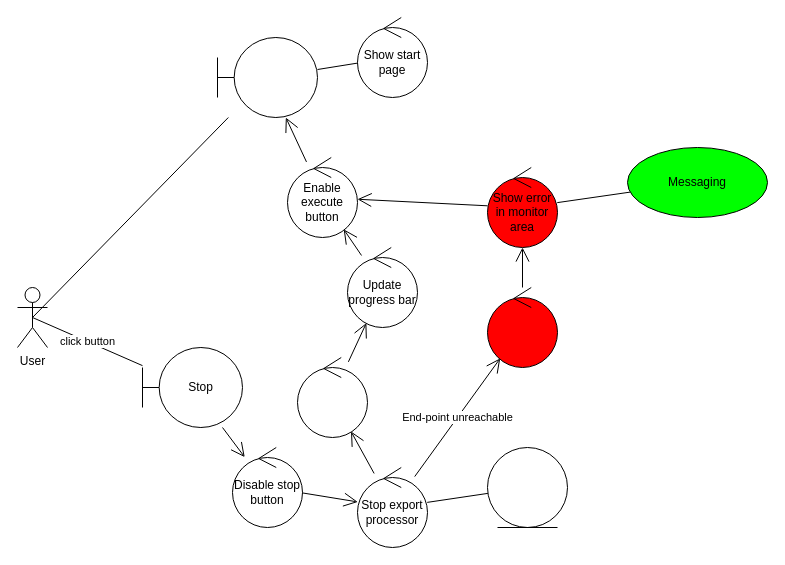
This 785x565 diagram has some shape labels left out. Each missing label, with the centre of its shape:
"Finish workload" belongs at [332,397].
"Processor" belongs at [527,487].
"Start page" belongs at [267,77].
"Stop processing" belongs at [522,327].
